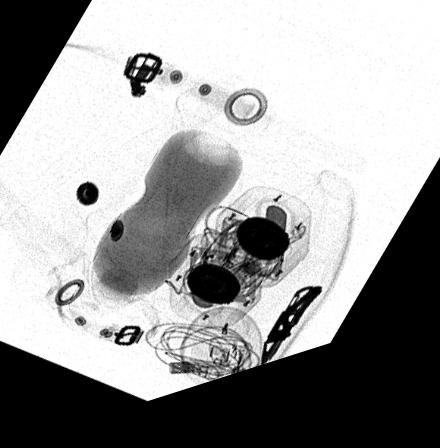Knife: (259, 304, 322, 382)
